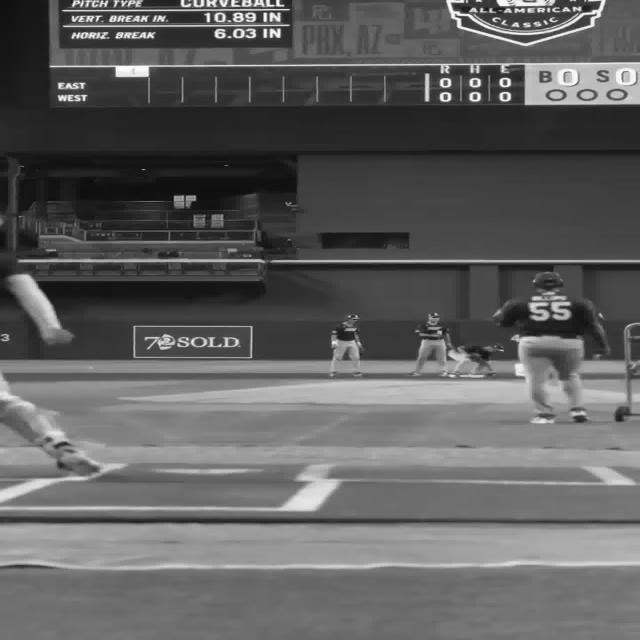base: (450, 375, 495, 379)
shoe: (42, 438, 102, 476), (567, 408, 589, 422), (529, 414, 555, 424), (352, 372, 364, 378), (448, 372, 460, 378), (406, 372, 421, 376), (438, 371, 448, 376), (328, 372, 336, 378)
